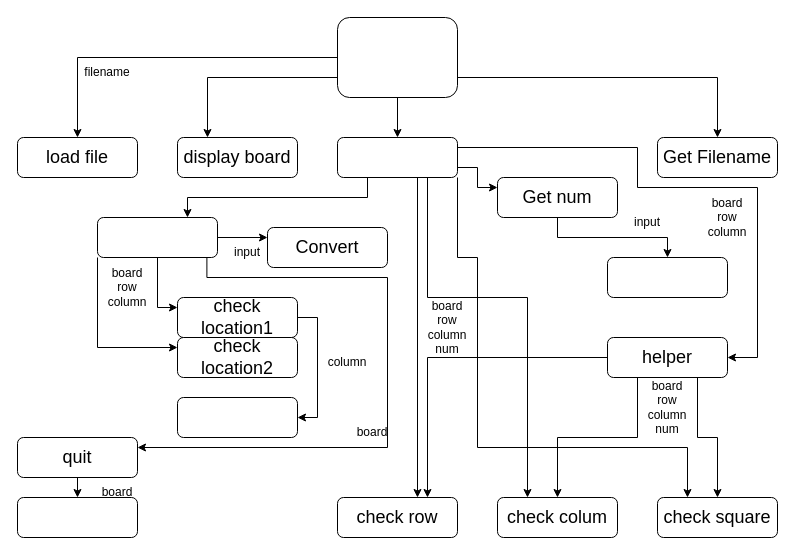
Some shapes in this 795 by 555 pixel diagram are drawn without their labels. Here are the shapes that lost their labels. From the top down, the centre of each, then its label:
(397,57): main
(397,157): place on board
(157,237): Get location
(667,277): valid input
(237,417): Re Convert
(77,517): save file
